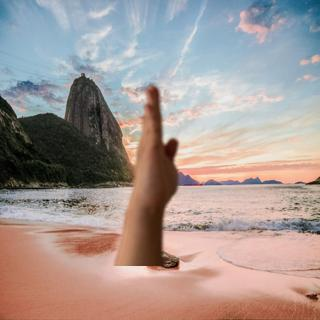RIGHT: (128, 81, 186, 211)
